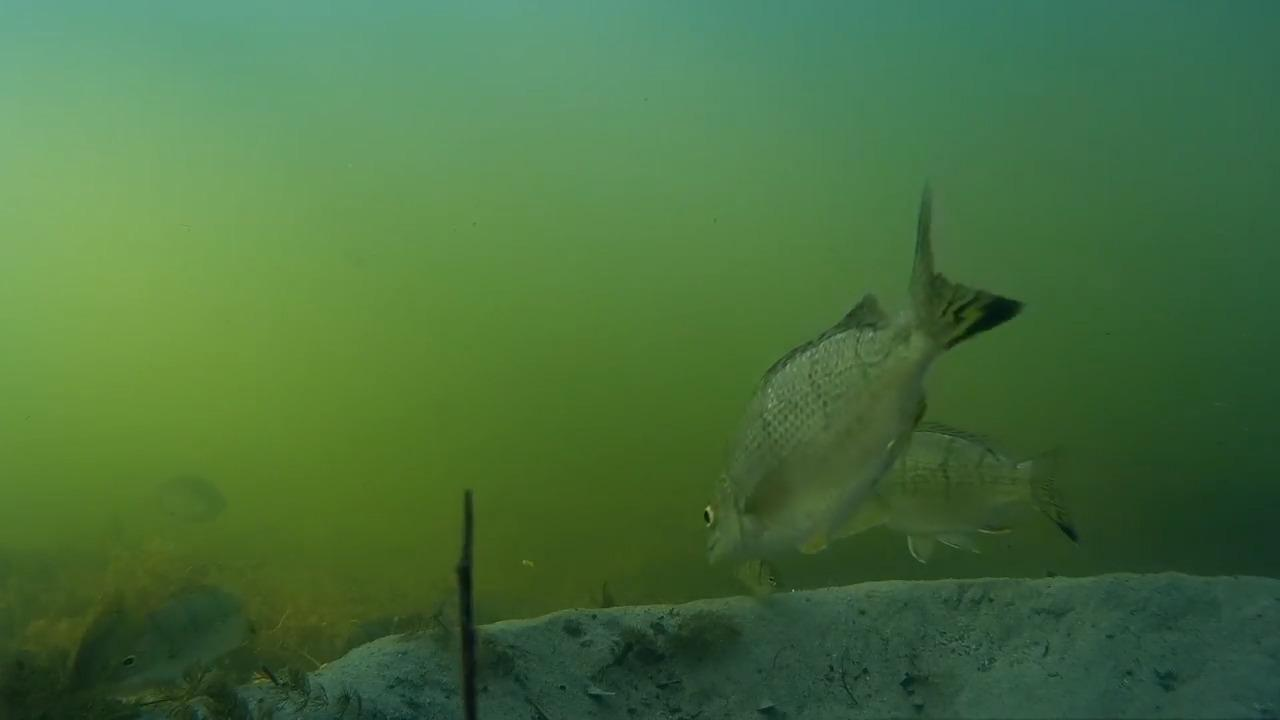Tilapia: (700, 268, 1071, 559), (796, 405, 1103, 557), (62, 568, 262, 714)
